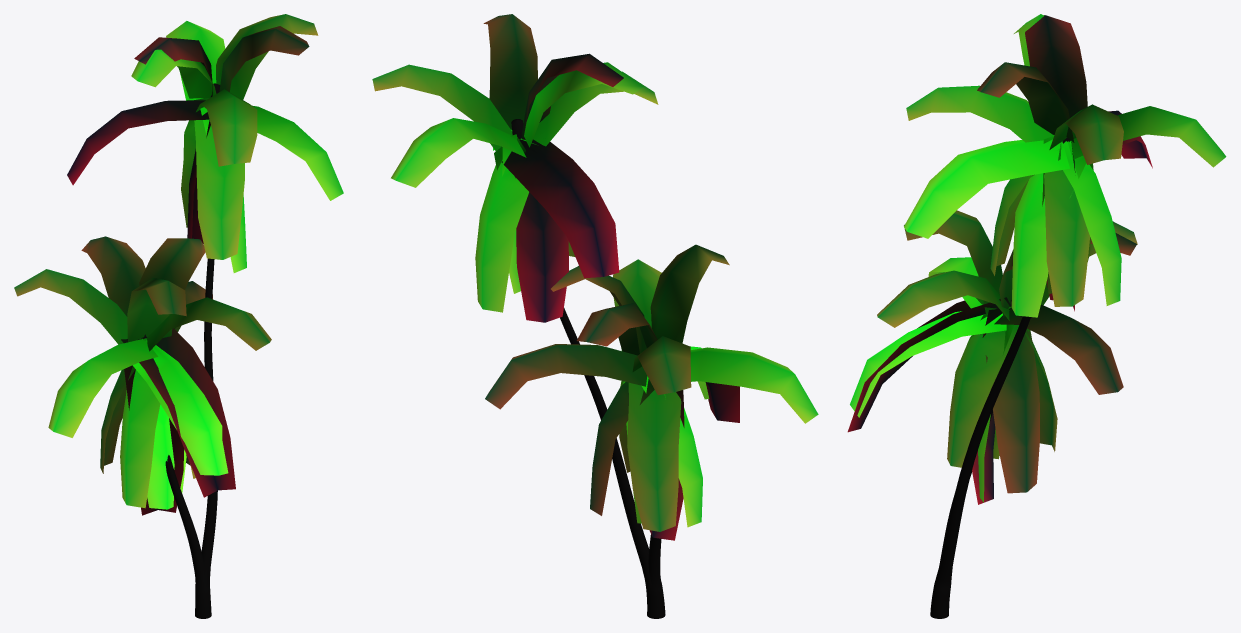
File: SM_Palm6_8.fbx
3 renders of one model, left to right at view 1: azimuth 30°, elevation 25°; view 2: azimuth 150°, elevation 25°; view 3: azimuth 270°, elevation 25°, orthographic. The views are drawn at different scales.
Visible parts, largest first — view 1: SM_Palm6_8; view 2: SM_Palm6_8; view 3: SM_Palm6_8.
Part boxes in pixels (box(x1,y1,x2,y2)): SM_Palm6_8: box(14, 14, 343, 618); SM_Palm6_8: box(372, 14, 818, 618); SM_Palm6_8: box(847, 14, 1226, 618).
Size of the model in its own units: 932 by 1448 by 818.
